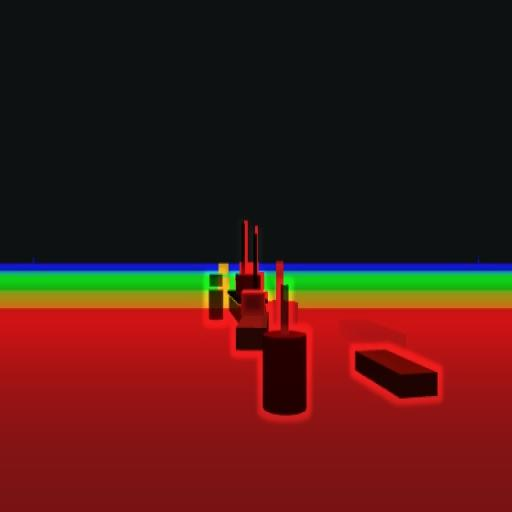buoy: (207, 270, 224, 314)
debris_container: (355, 344, 439, 400)
floating_obstacle: (264, 285, 308, 416)
